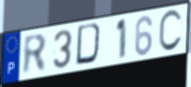1: (115, 17, 128, 61)
3: (51, 29, 74, 71)
6: (133, 14, 153, 58)
C: (157, 9, 184, 55)
D: (74, 21, 105, 67)
R: (22, 33, 48, 78)
